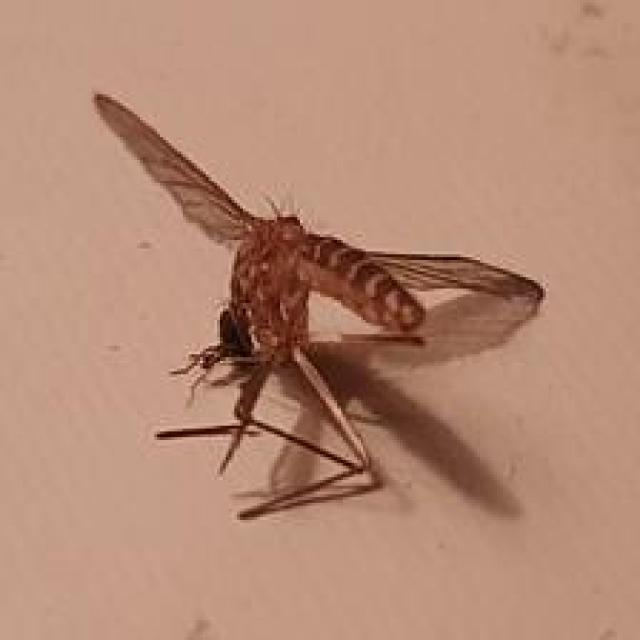Culex: (91, 90, 546, 521)
